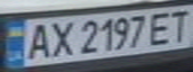1: (97, 16, 118, 52)
2: (75, 16, 100, 54)
7: (127, 12, 151, 48)
9: (112, 15, 133, 51)
A: (21, 20, 54, 61)
E: (148, 9, 175, 46)
T: (166, 7, 193, 43)
X: (45, 18, 75, 58)
